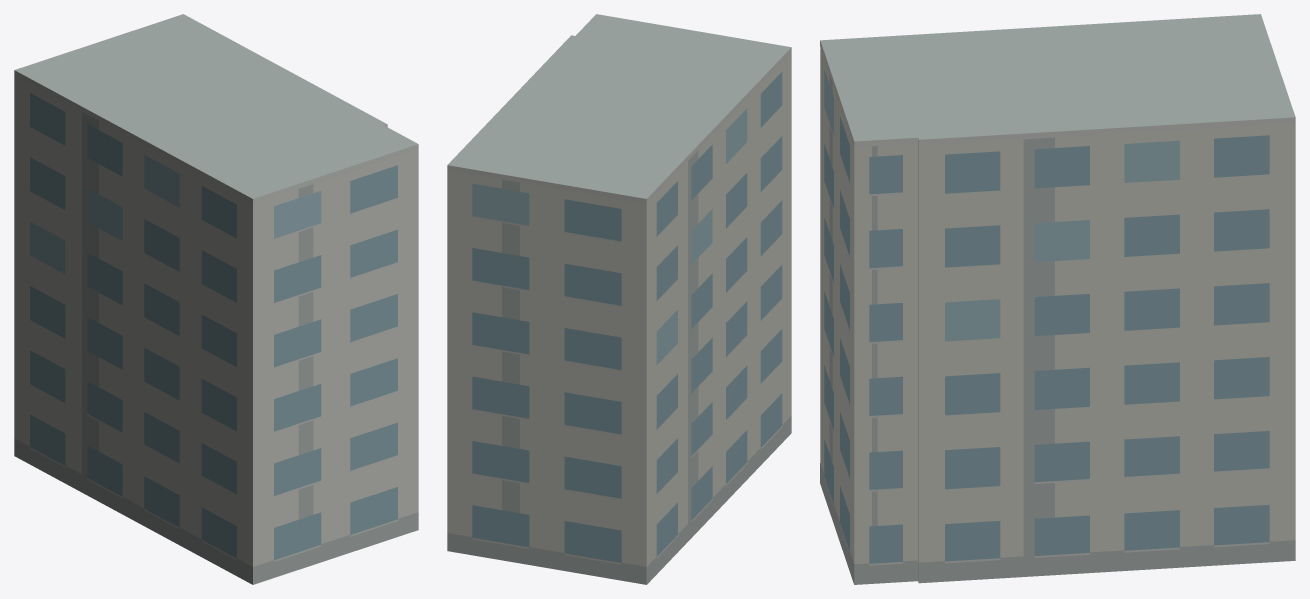
File: survey-upis-32705931.glb
3 views of the same model, side by side, from view 1: azimuth 30°, elevation 25°; view 2: azimuth 150°, elevation 25°; view 3: azimuth 270°, elevation 25° (orthographic). The views are drawn at different scales.
Visible parts, largest first — view 1: survey-upis-32705931.tmp; view 2: survey-upis-32705931.tmp; view 3: survey-upis-32705931.tmp.
Part boxes in pixels (<box>): survey-upis-32705931.tmp: <box>14,14,418,584</box>; survey-upis-32705931.tmp: <box>447,14,791,584</box>; survey-upis-32705931.tmp: <box>820,14,1295,584</box>.
Size of the model in its own units: 11.42 by 18.5 by 17.99.
